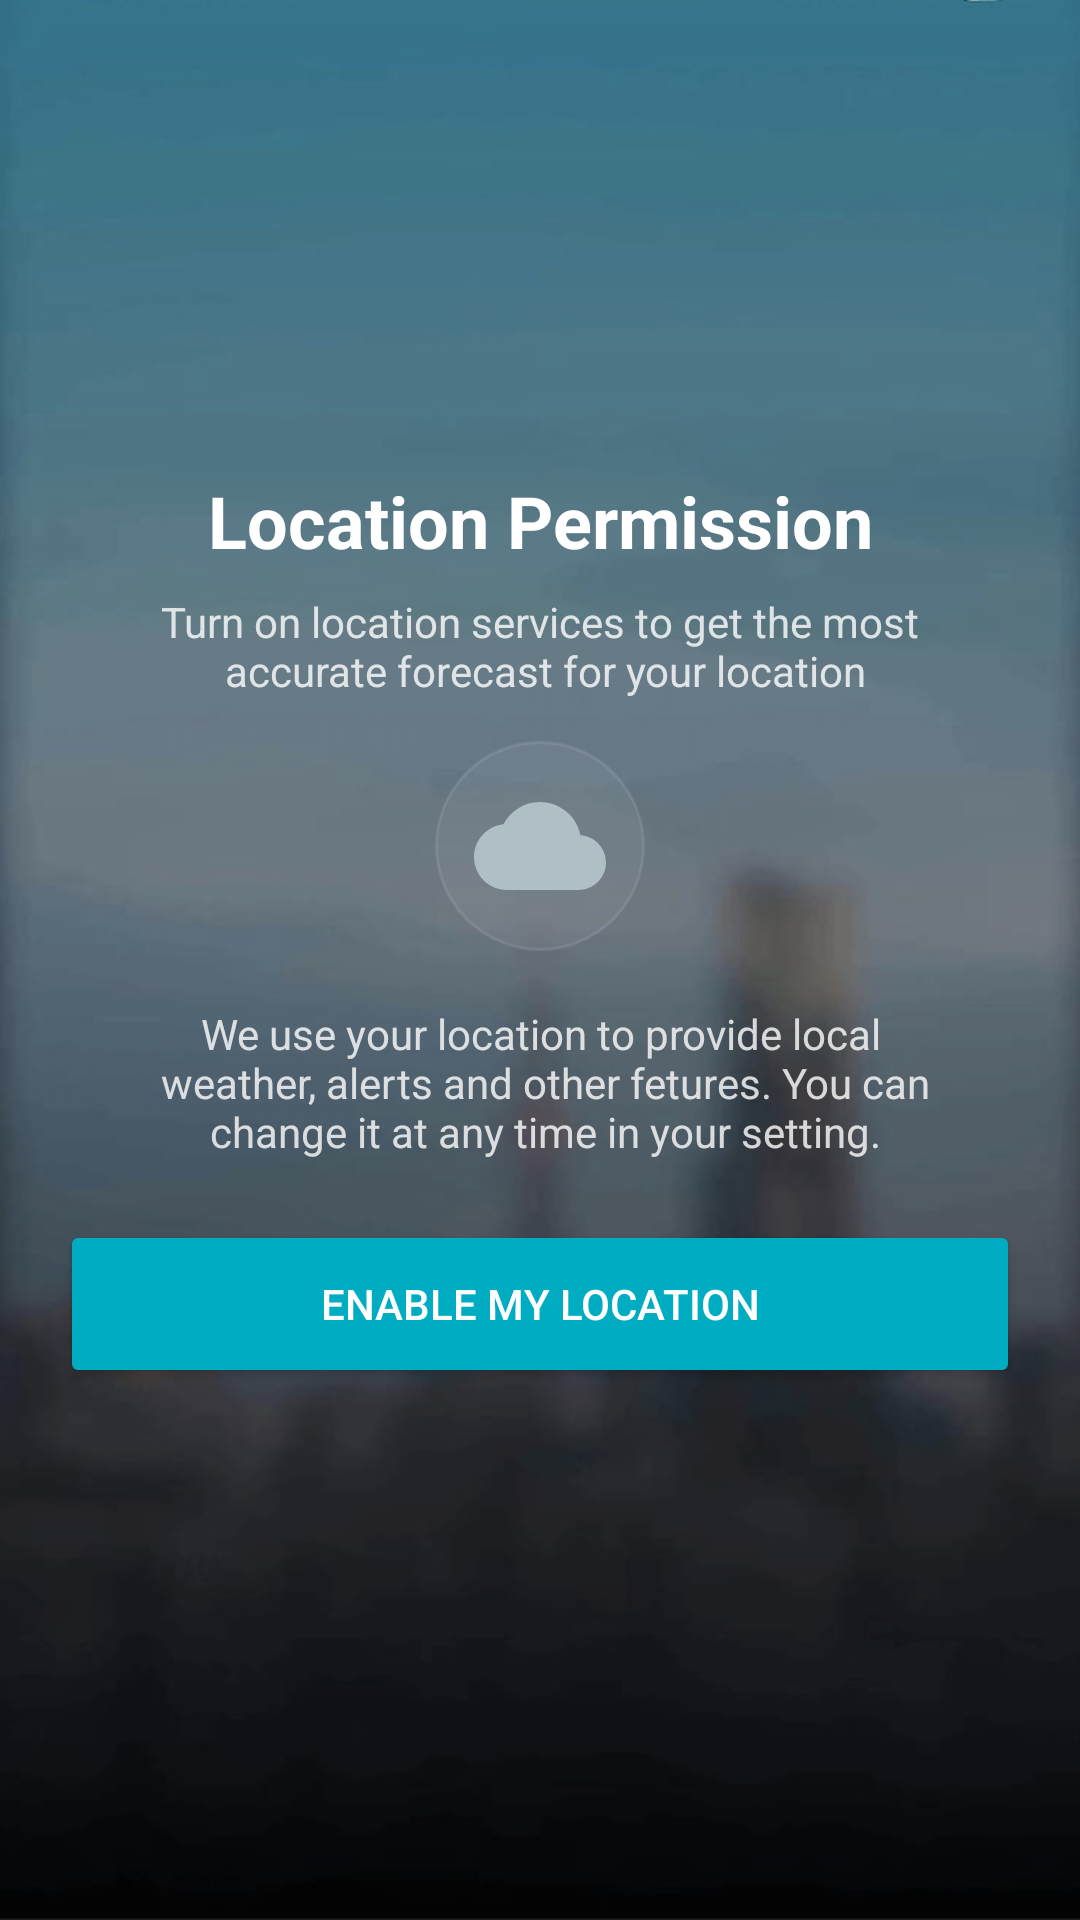

Where to tap for icons on this 1080 x 1920 app screen, as (x,y):
cloudy: (540,846)
